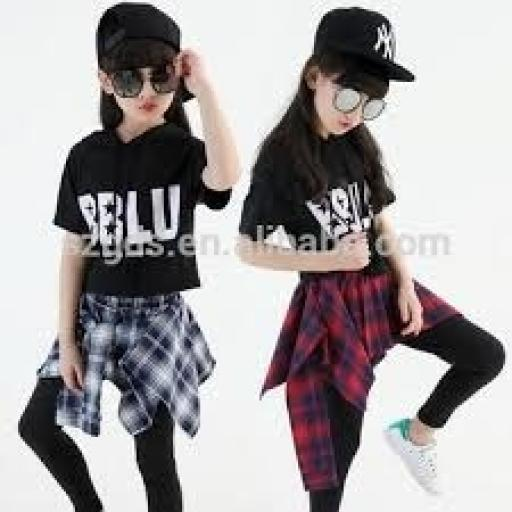dancing: (232, 2, 508, 510), (14, 0, 241, 510)
